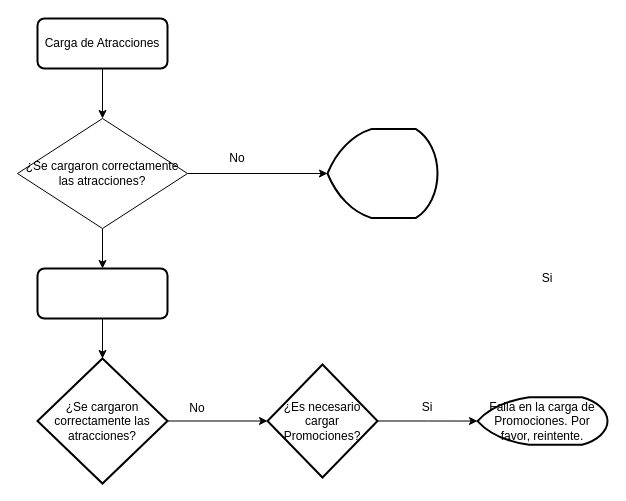
The diagram is 626 pixels wide and 501 high, and some of its shapes have lost their labels. Here are the shapes that lost their labels. From the top down, the box of each, then its label:
(326, 128, 438, 218): Falla en la carga de las atracciones. Reintente la carga.
(36, 267, 168, 319): Carga de Promociones.
